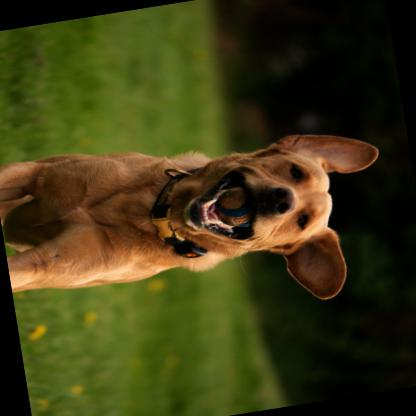DOG: (0, 100, 402, 351)
